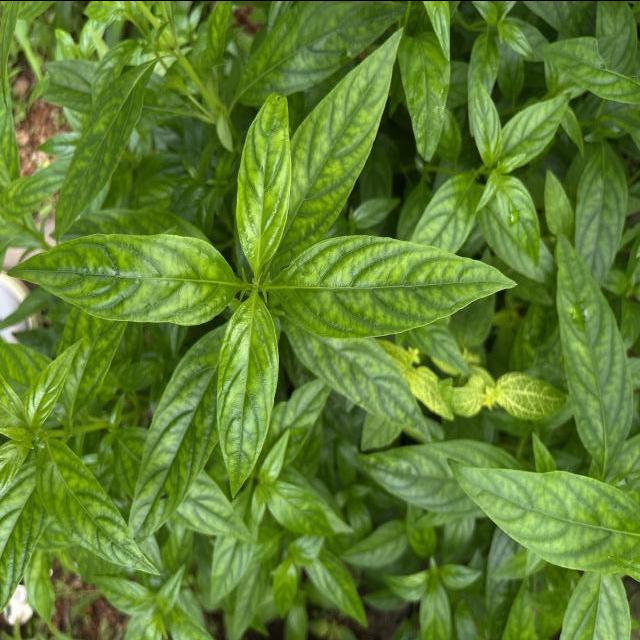Andrographis paniculata: (284, 23, 407, 244), (278, 228, 519, 339), (442, 453, 640, 574), (6, 228, 244, 328), (127, 321, 227, 545), (52, 54, 165, 240), (29, 432, 164, 580), (554, 227, 636, 463), (286, 331, 434, 442), (213, 297, 280, 502), (234, 86, 294, 272), (574, 139, 629, 284), (397, 28, 451, 164), (498, 90, 572, 164), (494, 174, 542, 266)
